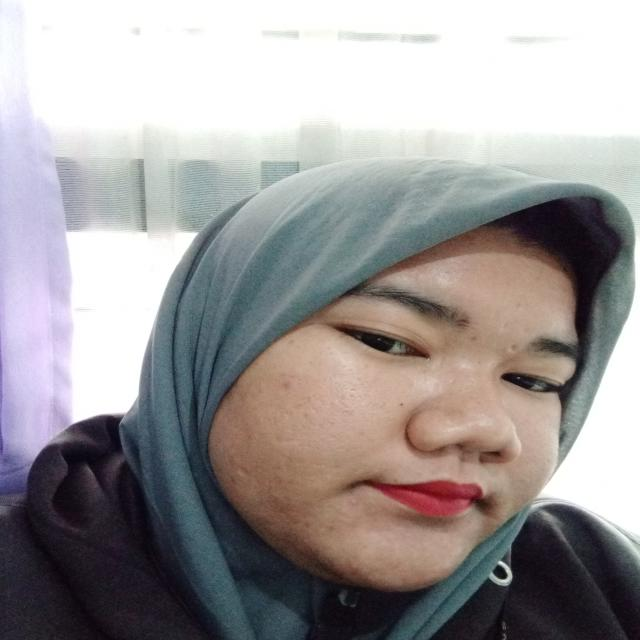Acne: (347, 498, 367, 513), (277, 377, 298, 389)
Englarged-Pores: (299, 378, 392, 465)
